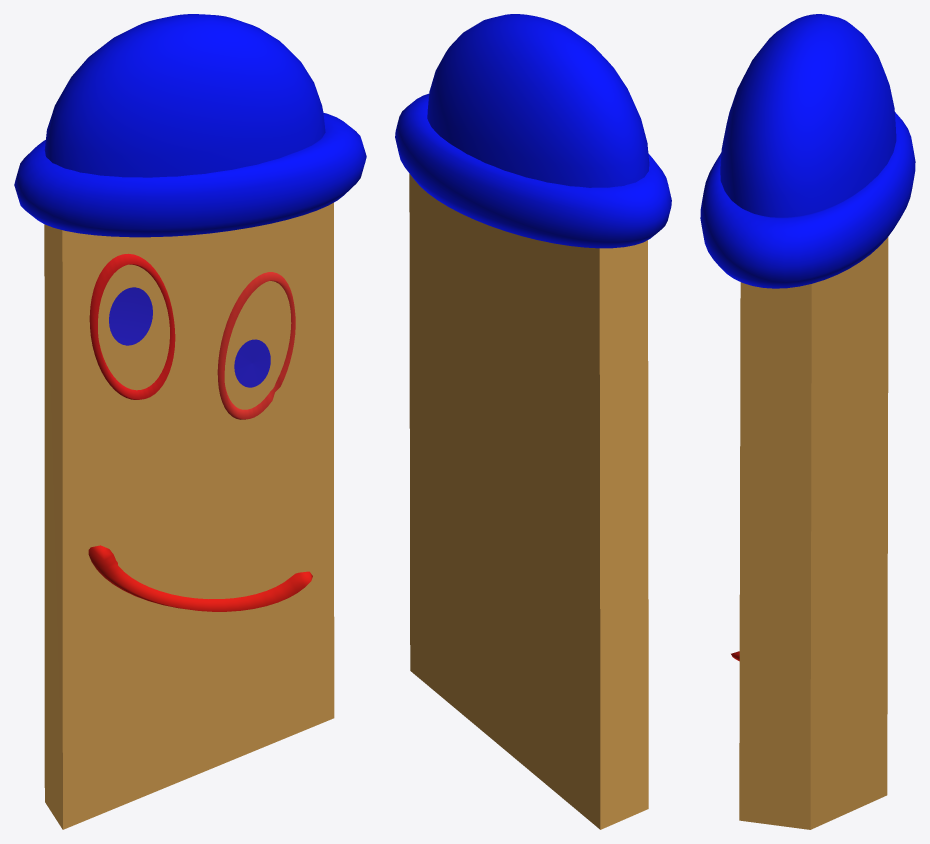
Rendered from plank.glb.
3 renders of one model, left to right at view 1: azimuth 30°, elevation 25°; view 2: azimuth 150°, elevation 25°; view 3: azimuth 270°, elevation 25°, orthographic. The views are drawn at different scales.
Parts seen in each view (by area): view 1: Torus_0; view 2: Torus_0; view 3: Torus_0.
Part boxes in pixels (<box>): Torus_0: <box>14,14,366,829</box>; Torus_0: <box>395,14,671,829</box>; Torus_0: <box>700,14,915,829</box>.
Bounding box in the file's own units: 1.18 × 2.9 × 0.6902.
